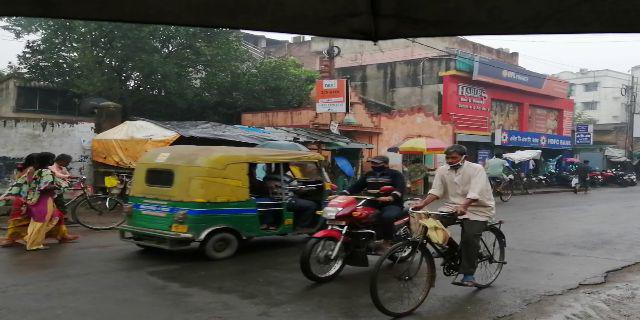Autorickshaw: (126, 145, 329, 254)
Cycle: (374, 145, 510, 315)
Motorbike: (305, 158, 417, 277)
